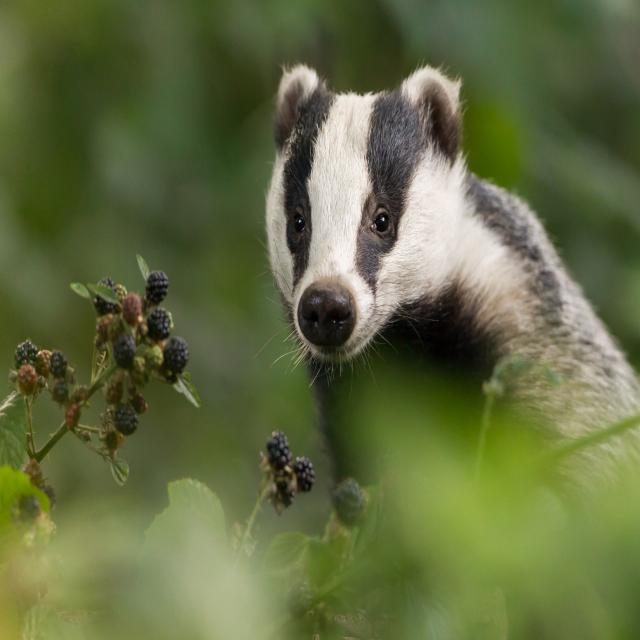Badger: (270, 57, 640, 471)
